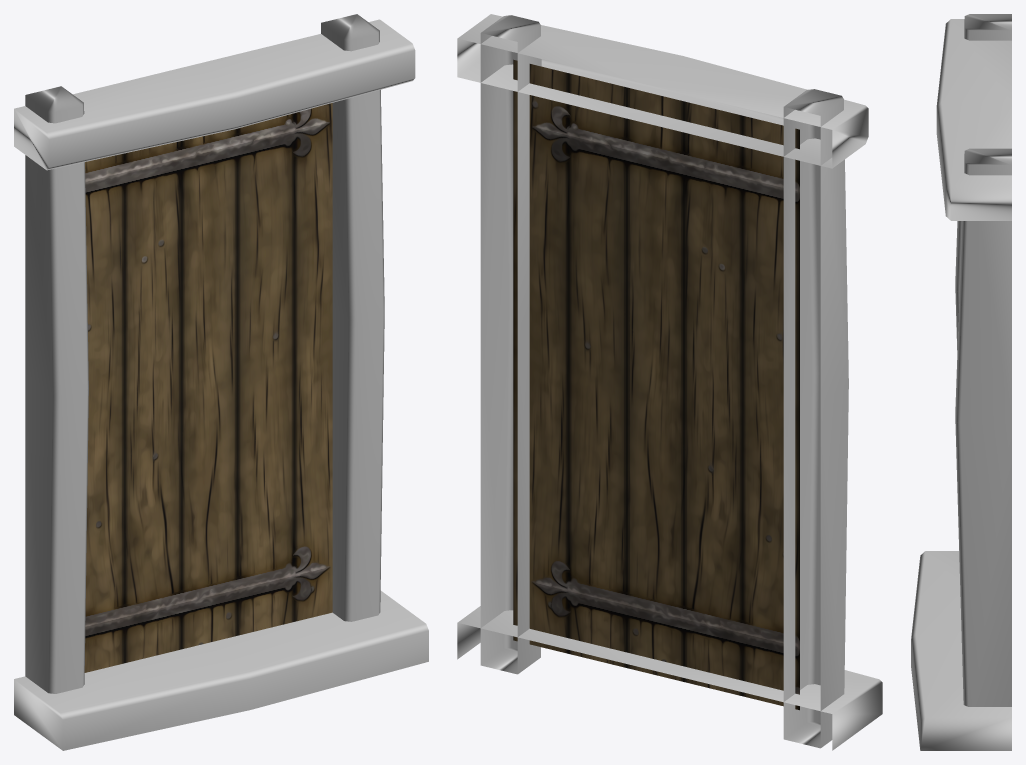
Rendered from DoorWood.fbx.
3 views of the same model, side by side, from view 1: azimuth 30°, elevation 25°; view 2: azimuth 150°, elevation 25°; view 3: azimuth 270°, elevation 25° (orthographic). The views are drawn at different scales.
Parts seen in each view (by area): view 1: Mesh; view 2: Mesh; view 3: Mesh.
Part boxes in pixels (x1,y1,x2,y2): Mesh: (14,14,428,750); Mesh: (457,14,882,750); Mesh: (911,14,1011,750).
Size of the model in its own units: 112 by 181 by 28.71.
3 materials, 1 textured.
